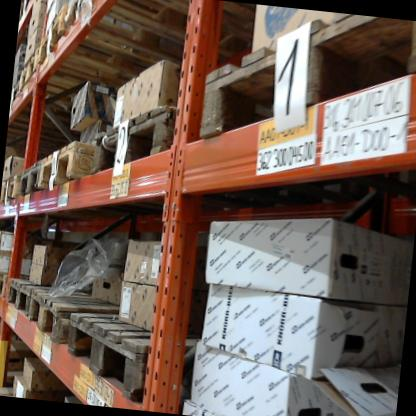pallet: (189, 4, 416, 163), (21, 9, 209, 104), (55, 306, 214, 416), (92, 84, 182, 202), (26, 281, 156, 359), (9, 50, 127, 129), (71, 0, 231, 52), (0, 261, 90, 339), (37, 127, 103, 206), (12, 141, 45, 217), (0, 171, 24, 215), (0, 251, 16, 310), (0, 361, 18, 393)
